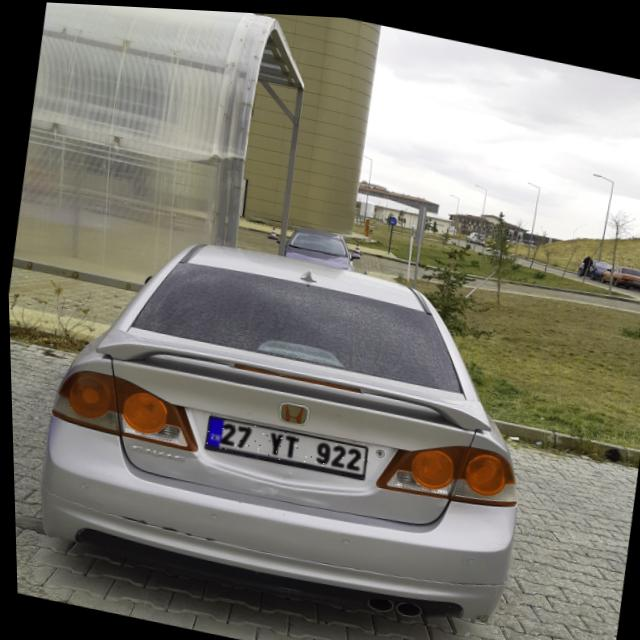license_plate: (203, 413, 366, 474)
